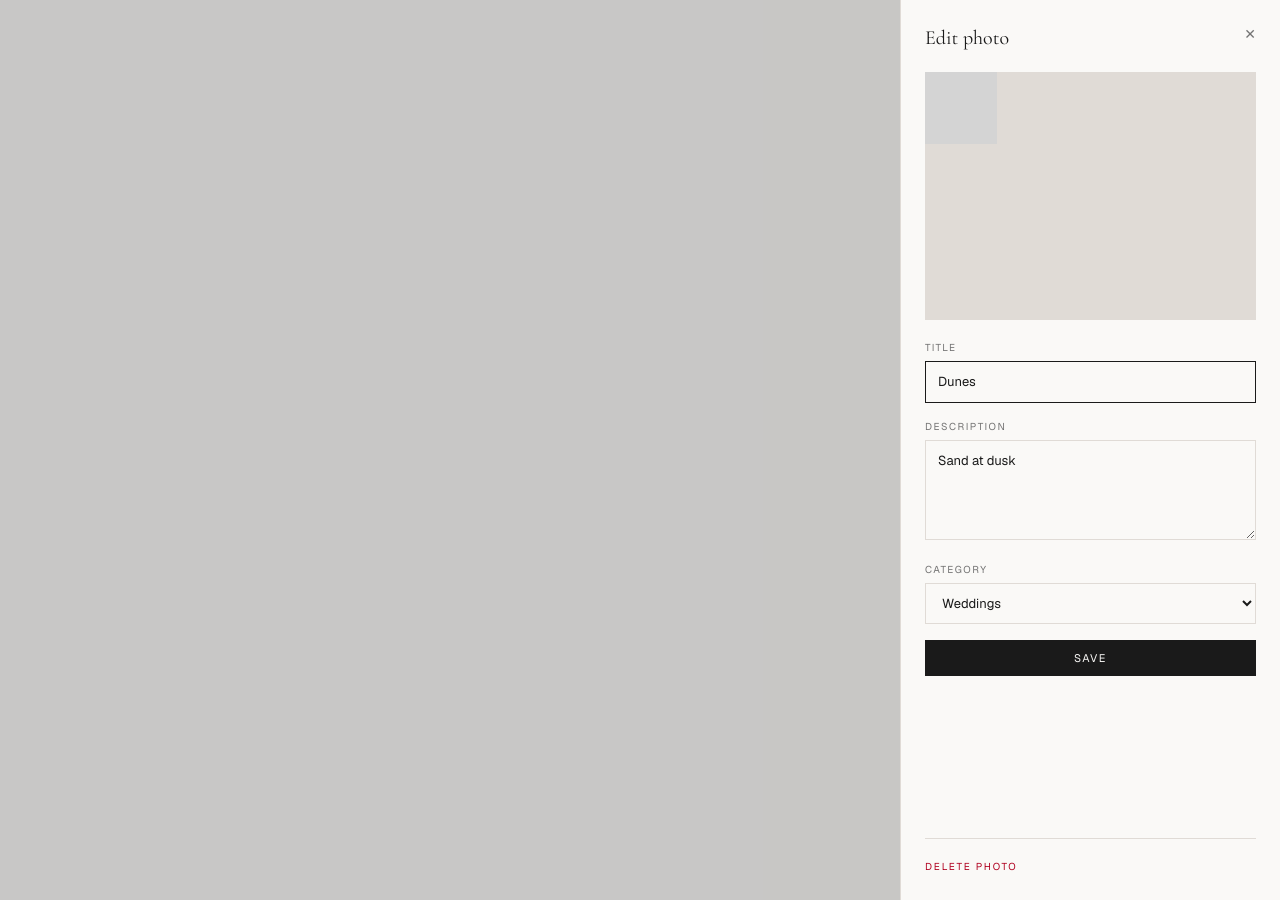
EditPanel › keeps the panel open with the typed values when saving fails
Replace the text in the text box labelled "Description" with "New text": (1090, 490) [925,440,1256,540]
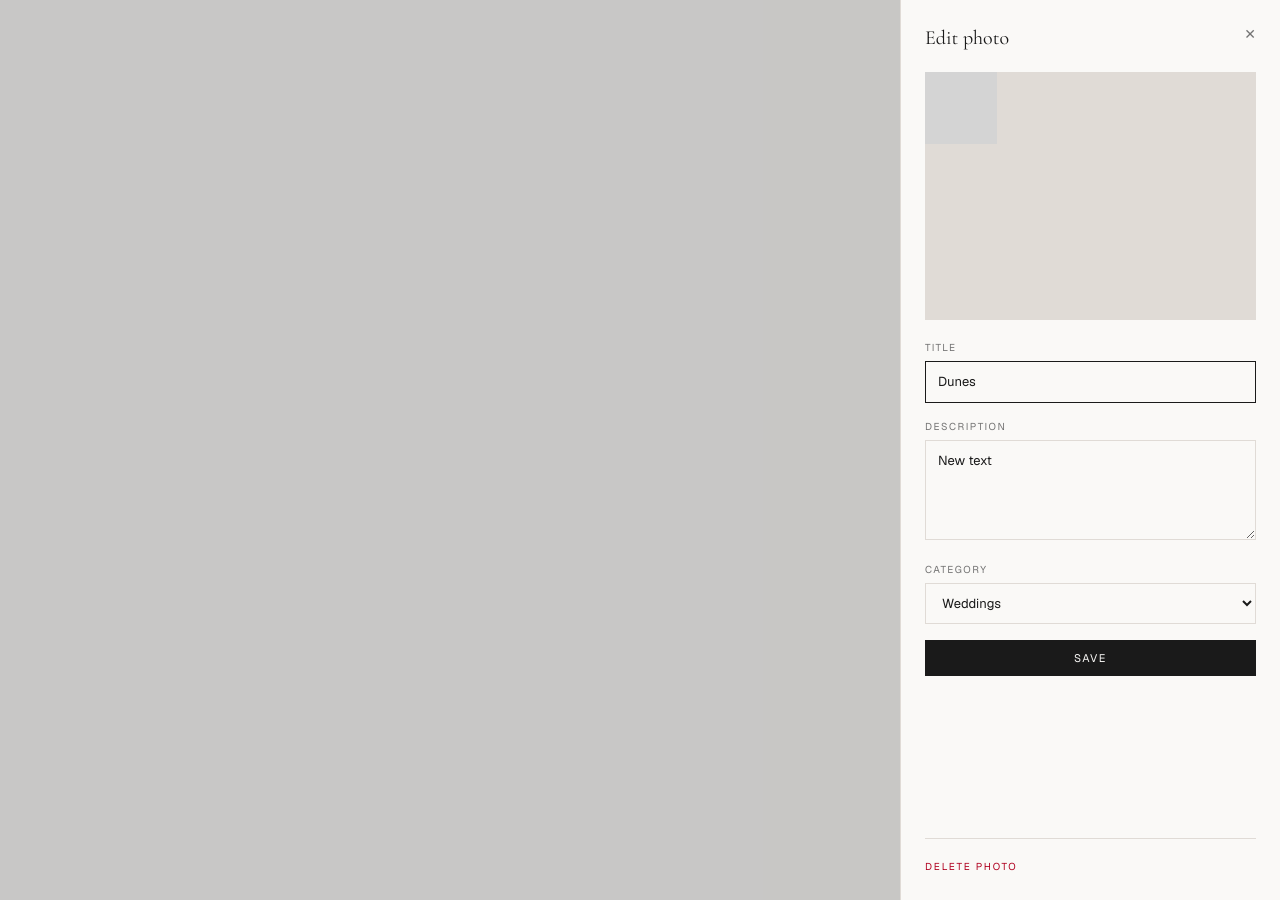
Click the button "Save": (1090, 658) [925,640,1256,676]
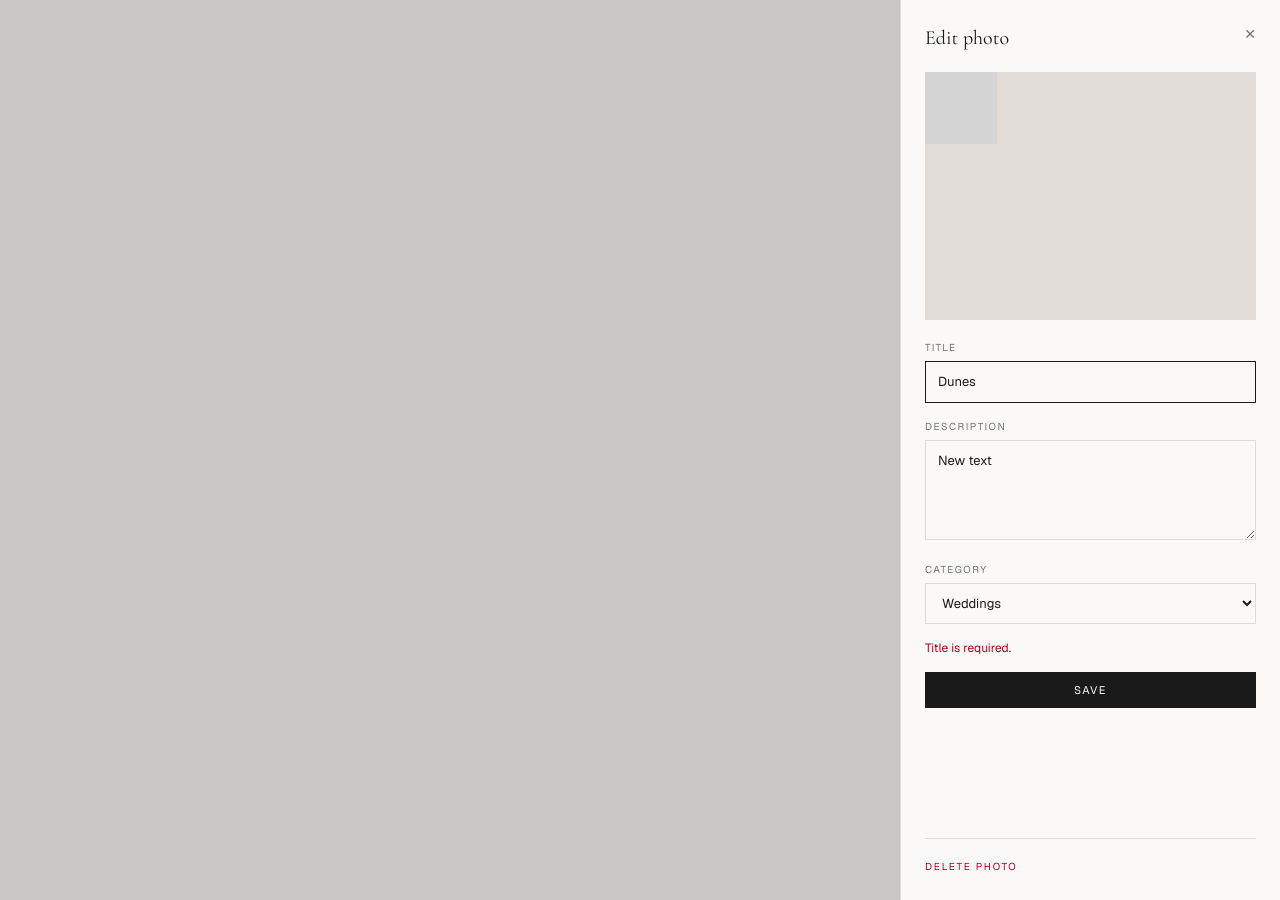
Result: the text "Title is required." is shown at [925,640,1011,656]
